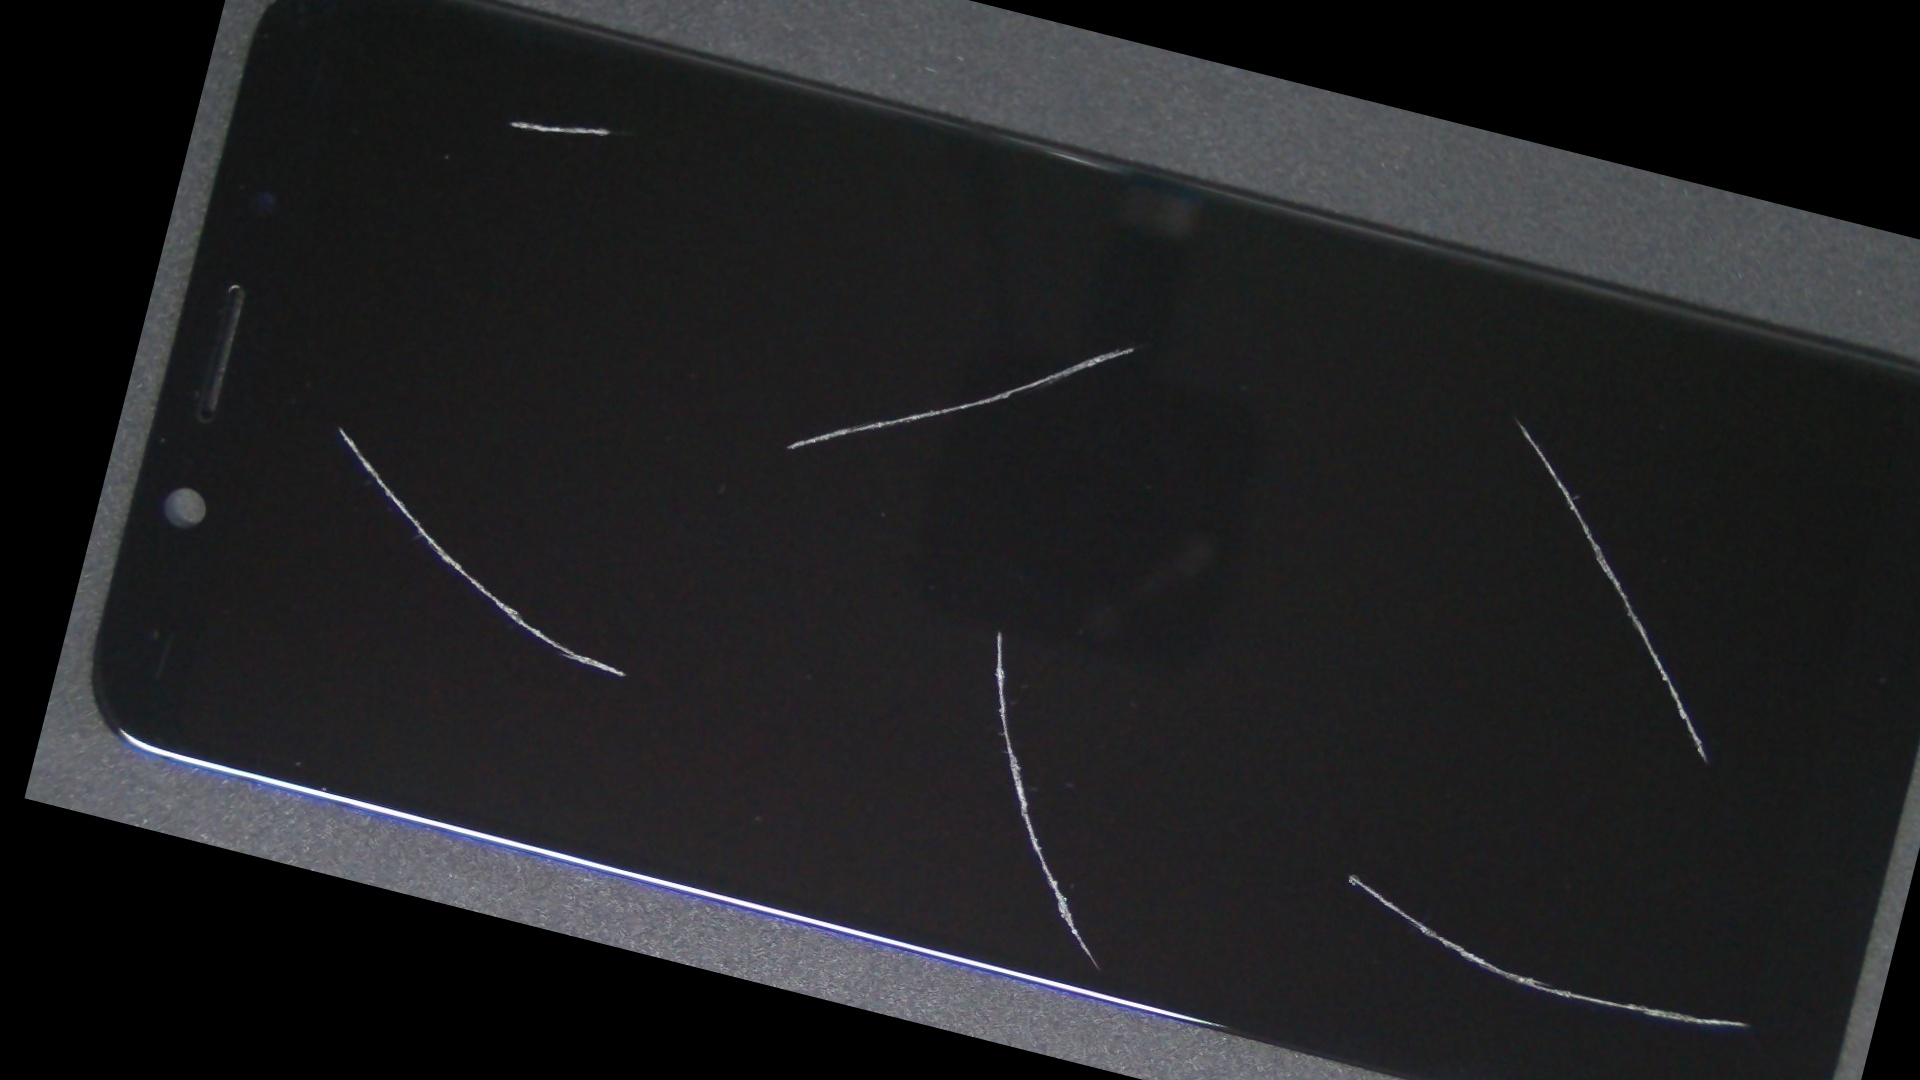oil: (658, 348, 1920, 1080), (488, 227, 1513, 1033), (815, 109, 1920, 676), (628, 84, 1630, 608), (166, 124, 514, 727), (384, 0, 816, 278)
